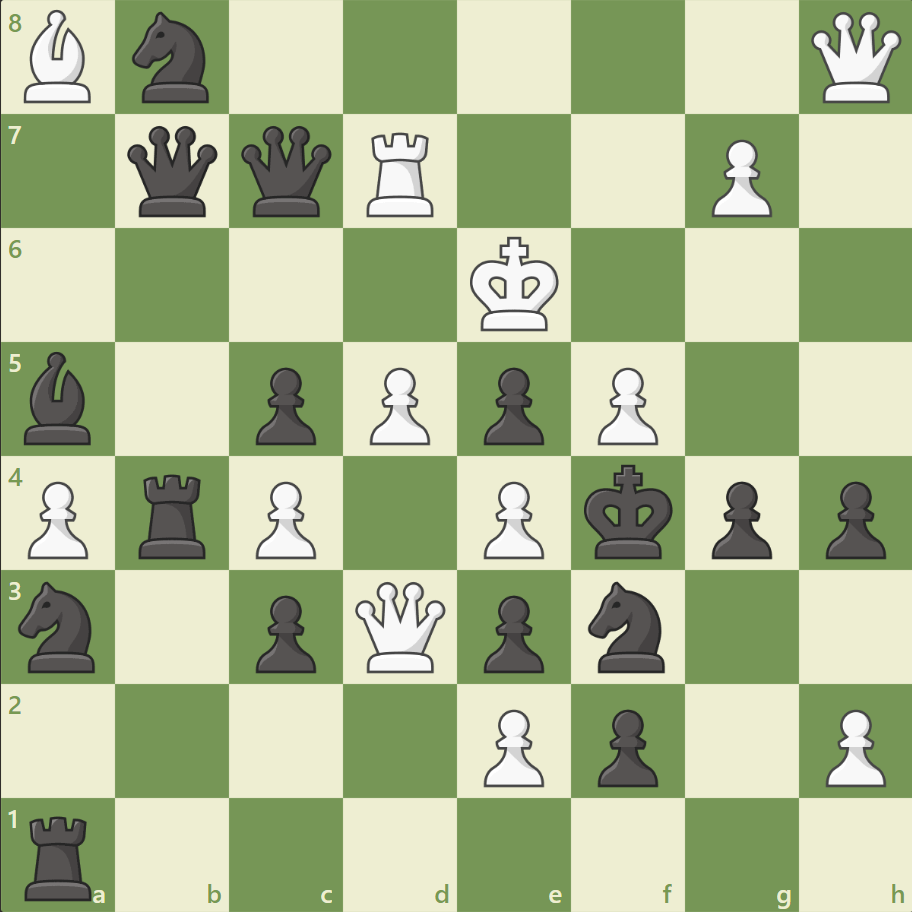B: (17, 6, 101, 109)
K: (465, 231, 565, 339)
P: (701, 132, 776, 223), (20, 473, 95, 564), (247, 473, 322, 564), (474, 473, 549, 564), (474, 700, 549, 791), (361, 359, 435, 450), (588, 359, 662, 450), (815, 700, 889, 791)
Q: (351, 576, 450, 676), (805, 9, 904, 108)
R: (360, 125, 442, 222)
b: (17, 347, 101, 449)
k: (579, 458, 679, 566)
n: (124, 7, 222, 110), (11, 575, 108, 677), (579, 575, 676, 677)
p: (247, 359, 322, 450), (474, 359, 549, 450), (701, 473, 776, 564), (247, 586, 322, 677), (474, 586, 549, 677), (815, 473, 889, 564), (588, 700, 662, 791)
q: (124, 122, 223, 222), (237, 122, 336, 222)
r: (19, 806, 102, 904), (133, 466, 215, 563)
